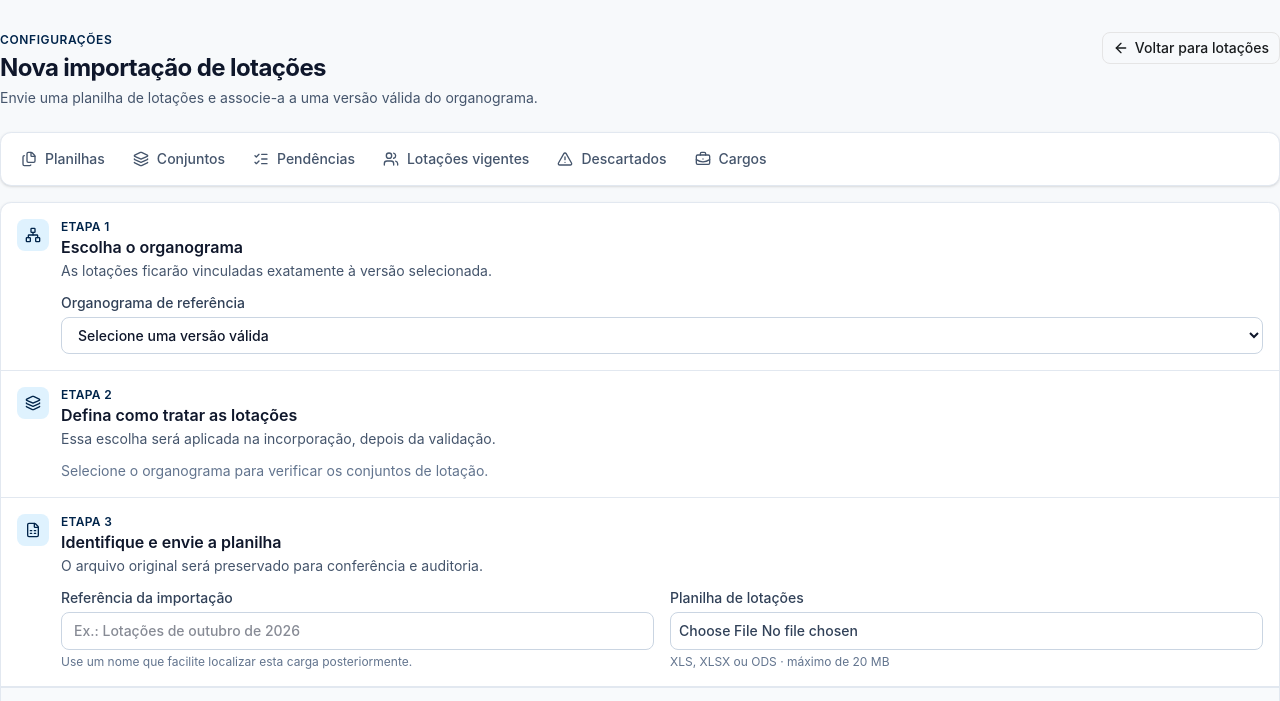
Test: nova importação de lotações › separa a planilha de lotações e exige um organograma válido
Expected: the heading "Nova importação de lotações" is shown, top-left (0, 53), bottom-right (326, 82)
Select "Estrutura oficial 2026 · Incorporada · 42 itens · sem alterações manuais · 01/10" in the dropdown labelled "Organograma de referência" at (662, 336), box top-left (61, 317), bottom-right (1263, 354)
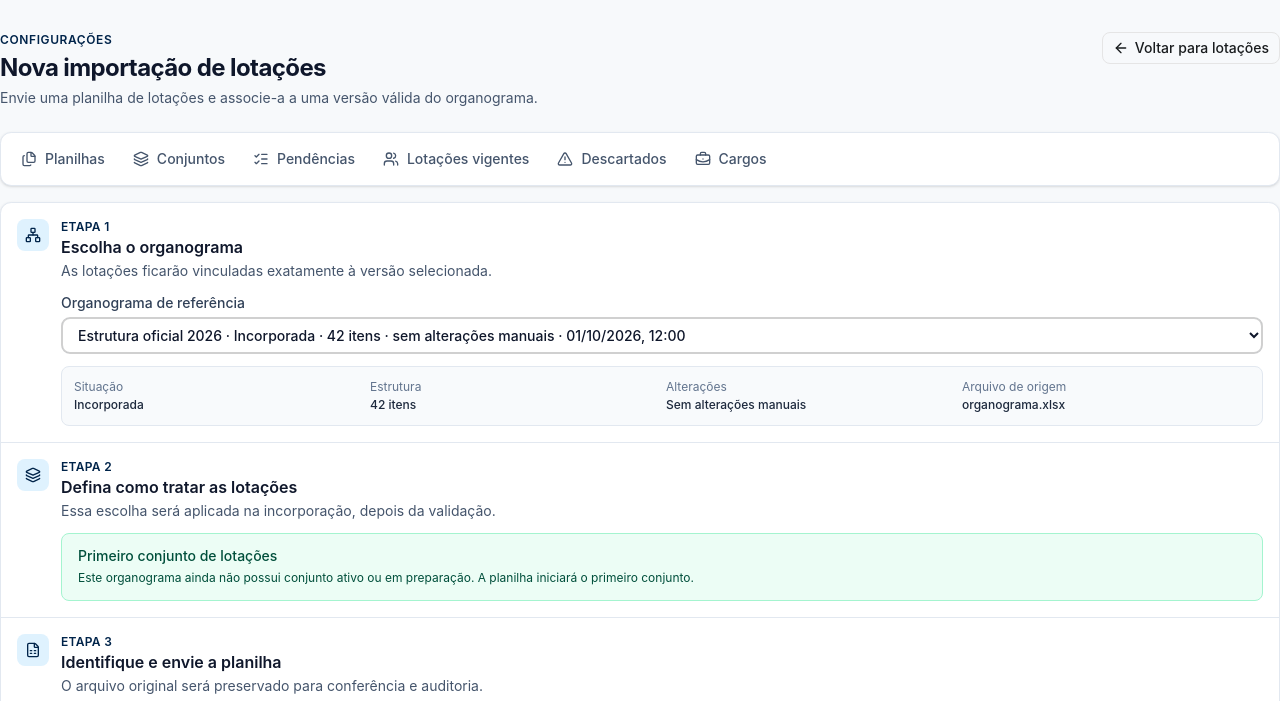
Now the text "Primeiro conjunto de lotações" is shown, box top-left (78, 547), bottom-right (277, 564)
Now the text "Sem alterações manuais" is shown, box top-left (666, 397), bottom-right (806, 412)
